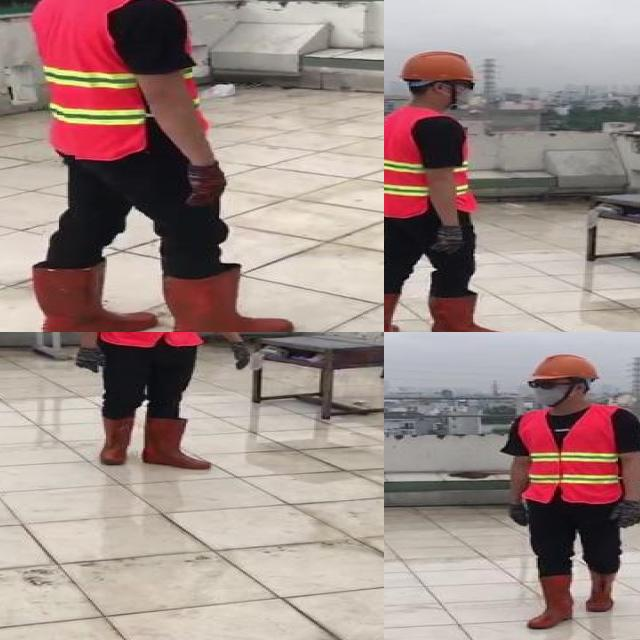boots: (34, 261, 158, 332), (162, 265, 293, 332), (141, 415, 211, 471), (426, 290, 515, 332), (529, 572, 577, 632), (95, 414, 133, 467), (584, 570, 618, 611), (384, 293, 403, 332)
face_mask: (526, 378, 568, 402), (443, 80, 478, 107)
glasses: (524, 377, 561, 392)
hand_glove: (182, 163, 230, 206), (429, 223, 464, 254), (72, 346, 111, 372), (609, 501, 640, 528), (230, 341, 253, 372), (506, 502, 531, 530)
head_helmet: (392, 50, 481, 84), (528, 352, 598, 382)
person: (13, 0, 298, 332), (384, 43, 525, 332), (501, 348, 640, 630), (72, 332, 262, 476)
vest: (30, 0, 204, 158), (516, 406, 622, 504), (384, 109, 474, 217)
